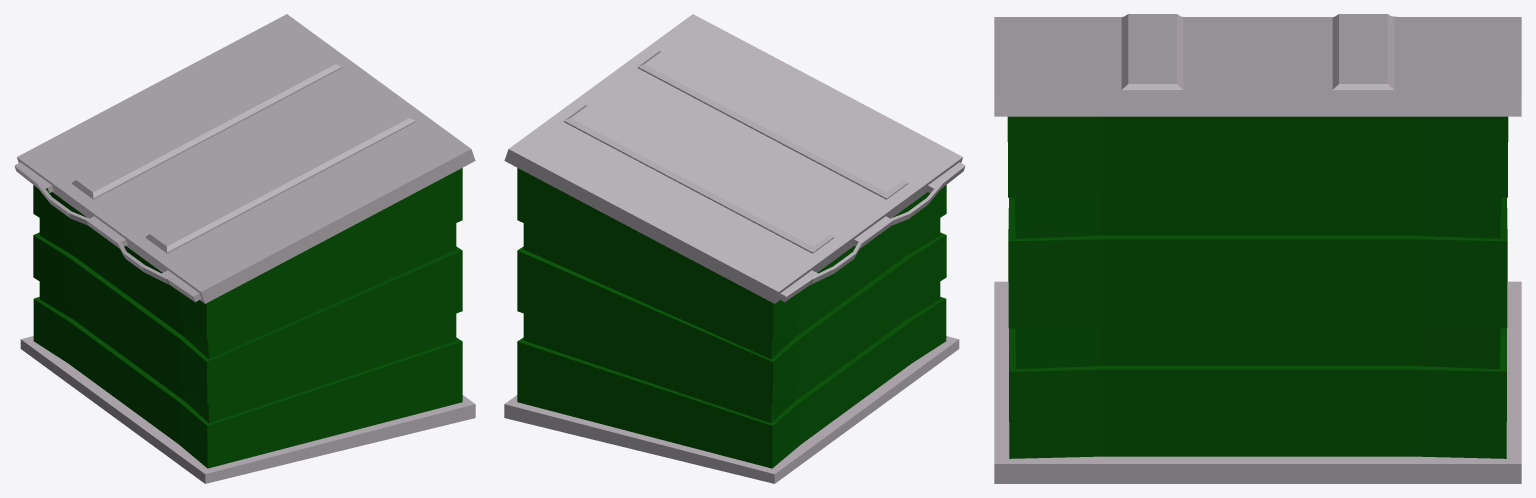
Rendered from dumpster.fbx.
3 views of the same model, side by side, from view 1: azimuth 30°, elevation 25°; view 2: azimuth 150°, elevation 25°; view 3: azimuth 270°, elevation 25° (orthographic). The views are drawn at different scales.
Visible parts, largest first — view 1: Cube; view 2: Cube; view 3: Cube.
Part boxes in pixels (x1=…): Cube: x1=14, y1=14, x2=475, y2=483; Cube: x1=504, y1=14, x2=965, y2=483; Cube: x1=994, y1=14, x2=1521, y2=483.
Size of the model in its own units: 2.92 by 3.25 by 2.63.
